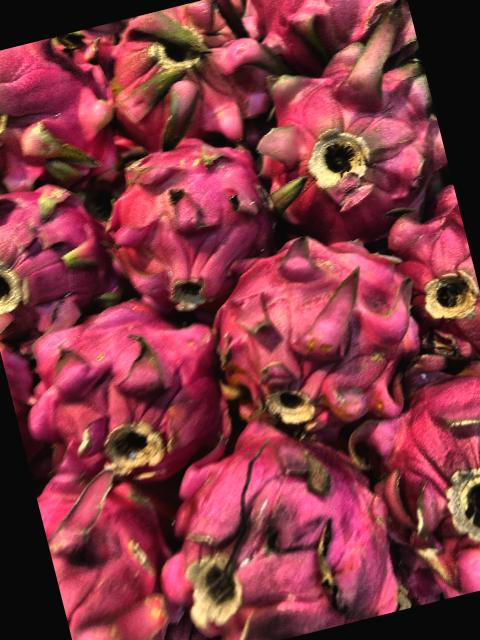buah-naga-belum-matang: (220, 23, 459, 255), (25, 421, 204, 640)
buah-naga-matang: (132, 395, 415, 640), (184, 214, 441, 454), (7, 280, 252, 510), (73, 124, 300, 320), (332, 351, 480, 613), (81, 0, 297, 160), (0, 26, 135, 223), (0, 163, 133, 356), (370, 199, 480, 365)
